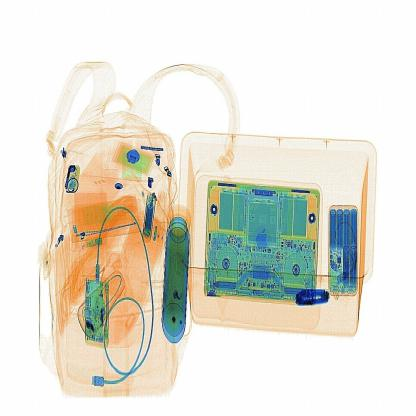scissors: (292, 288, 333, 310)
